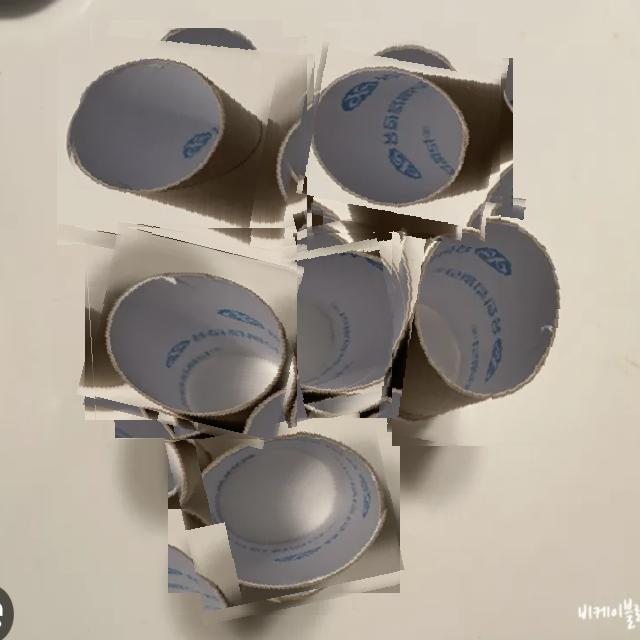biodegradable: (65, 28, 307, 270), (171, 389, 397, 615), (392, 192, 580, 446), (84, 227, 297, 439), (242, 212, 448, 418), (302, 33, 502, 233)
